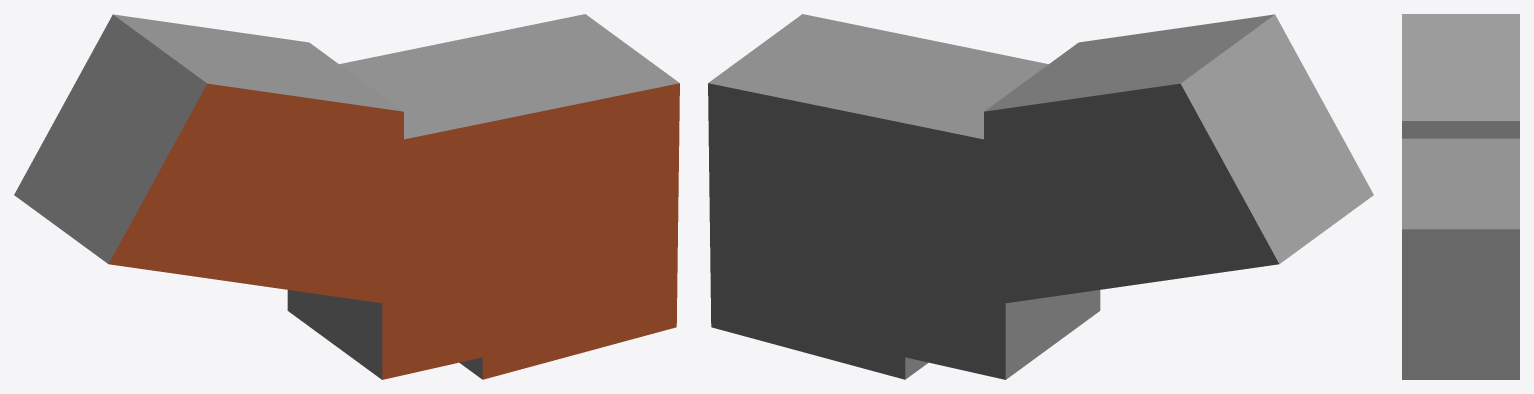
The model's file is construction_6432_assumed_A_Casa_h6m.obj.
3 views of the same model, side by side, from view 1: azimuth 30°, elevation 25°; view 2: azimuth 150°, elevation 25°; view 3: azimuth 270°, elevation 25° (orthographic). The views are drawn at different scales.
Visible parts, largest first — view 1: construction_6432_assumed_A_Casa; view 2: construction_6432_assumed_A_Casa; view 3: construction_6432_assumed_A_Casa.
Boxes of the visible parts, x1,y1,x2,y2 form: construction_6432_assumed_A_Casa: (14, 14, 679, 379); construction_6432_assumed_A_Casa: (708, 14, 1373, 379); construction_6432_assumed_A_Casa: (1402, 14, 1519, 379).
Bounding box in the file's own units: 20.94 × 12.73 × 6.
